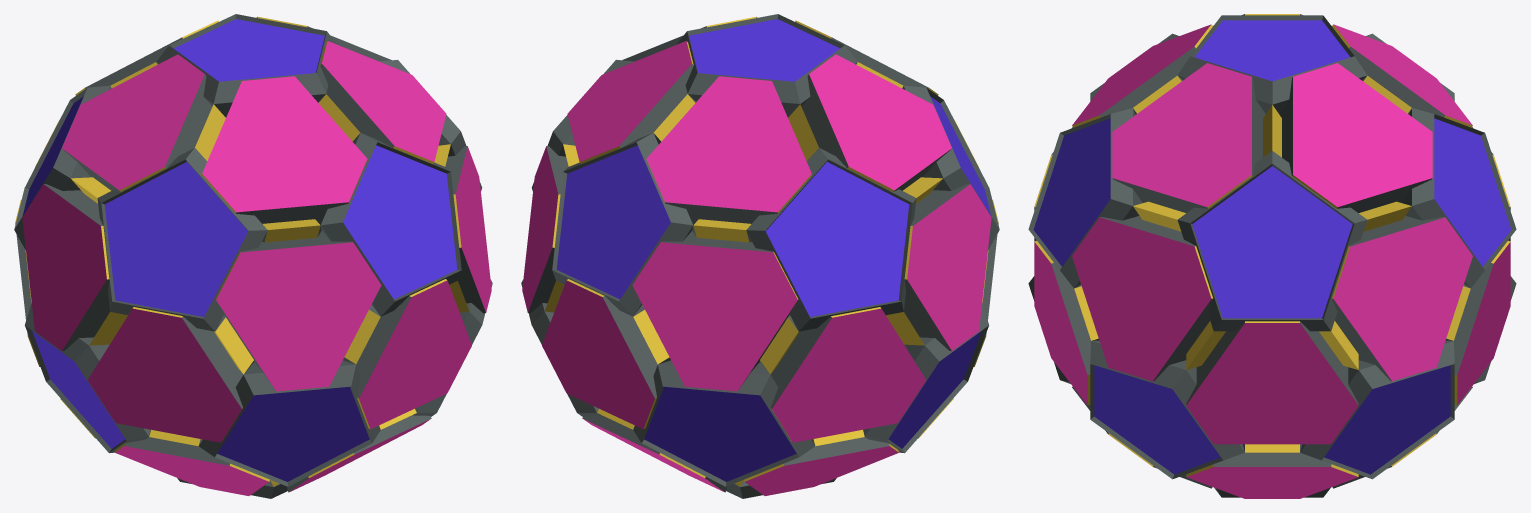
Rendered from ball2.fbx.
The picture shows the model from 3 angles, left to right: view 1: azimuth 30°, elevation 25°; view 2: azimuth 150°, elevation 25°; view 3: azimuth 270°, elevation 25°; orthographic projection. The views are drawn at different scales.
Visible parts, largest first — view 1: Икосфера; view 2: Икосфера; view 3: Икосфера.
Boxes of the visible parts, x1,y1,x2,y2 form: Икосфера: (14, 14, 492, 498); Икосфера: (521, 14, 999, 498); Икосфера: (1028, 14, 1516, 498).
Bounding box in the file's own units: 77.38 × 74.81 × 78.19.
